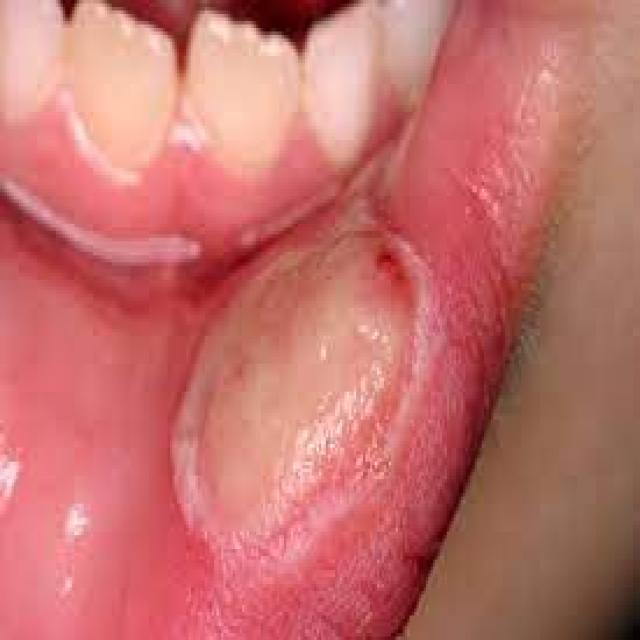processing_area: (1, 0, 597, 637)
ulcer-detection: (171, 135, 421, 566)
